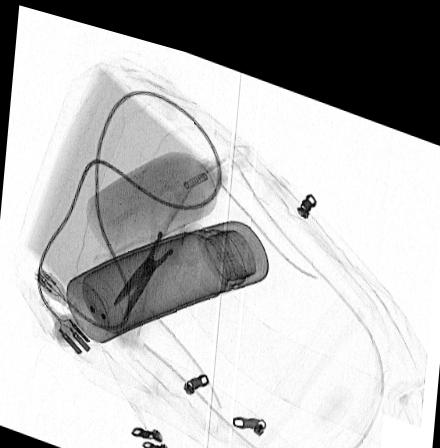Scissors: (111, 175, 209, 317)
